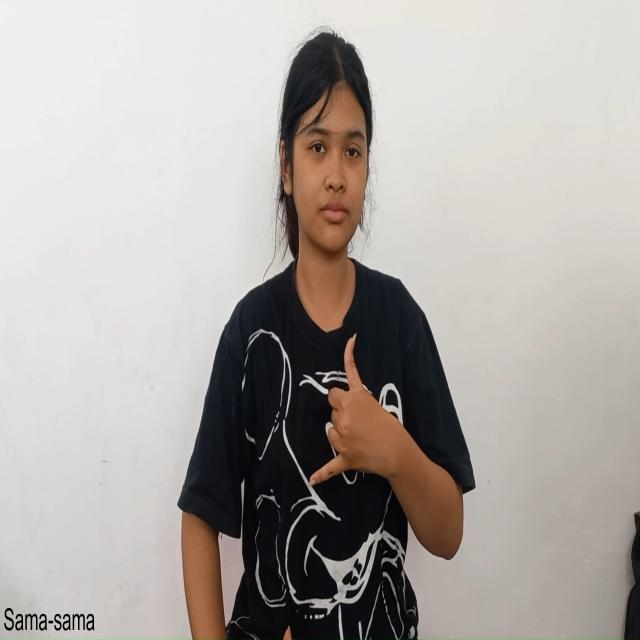Sama-sama -BISINDO-: (295, 318, 404, 525)
